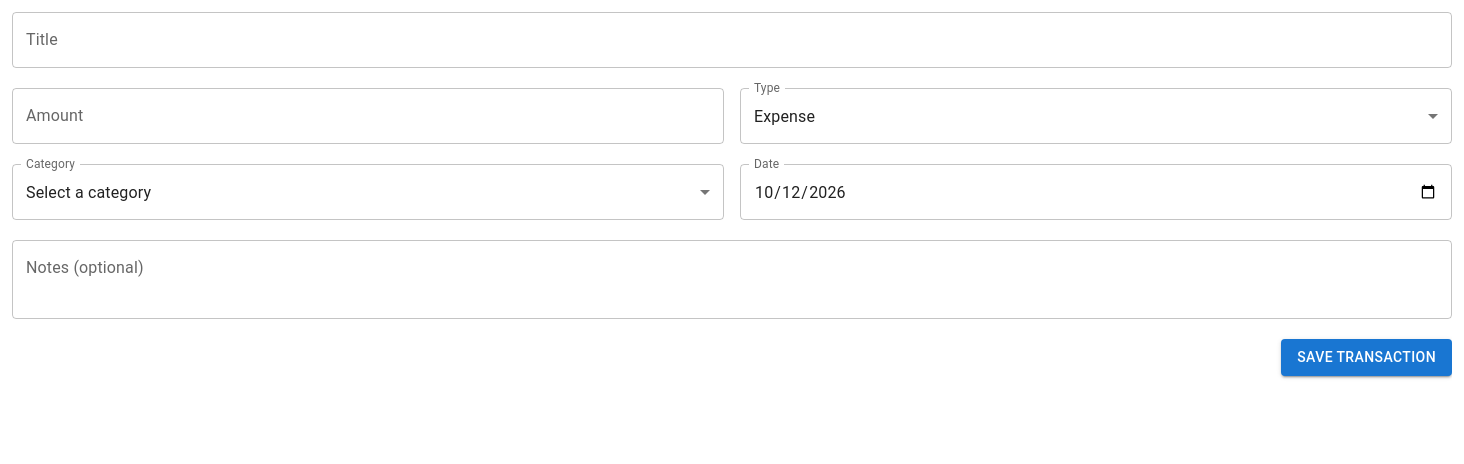
Test: TransactionForm › shows validation errors when submitted empty
Click the button "Save transaction".
click(1367, 357)  # box [1281, 339, 1452, 376]
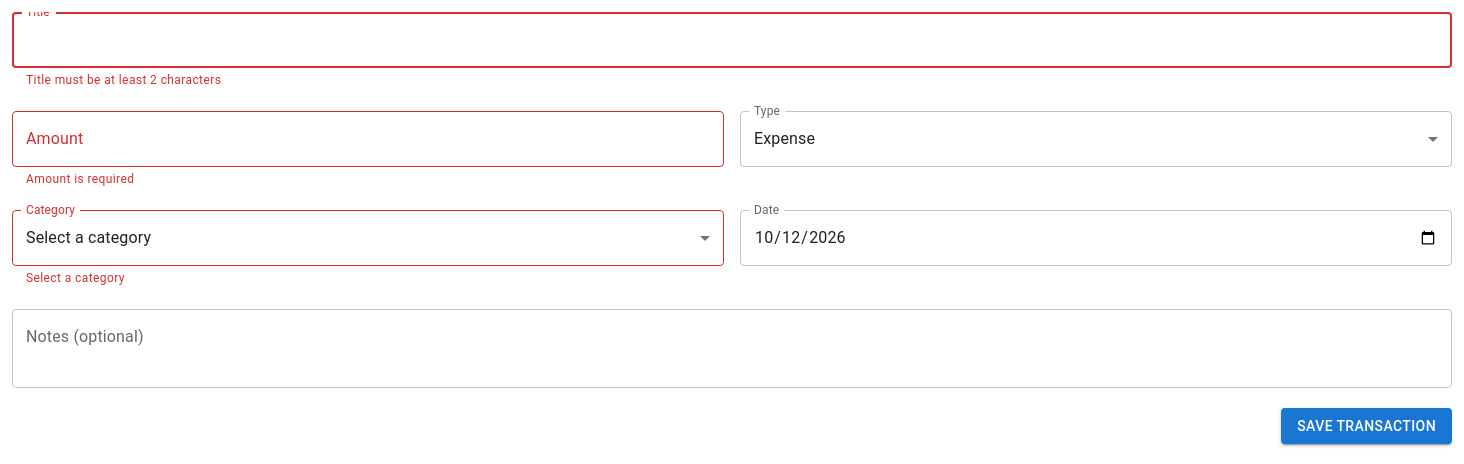
Expected: the text "Title must be at least 2 characters" is shown, [26, 73, 221, 87]
Expected: the text "Amount is required" is shown, [26, 172, 134, 186]
Expected: the text "Select a category" is shown, [26, 271, 125, 285]
